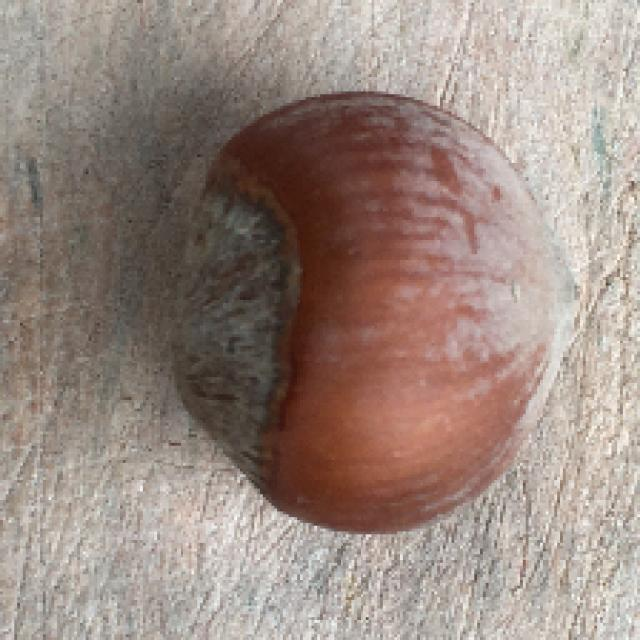QualityHazelnut: (168, 91, 591, 534)
